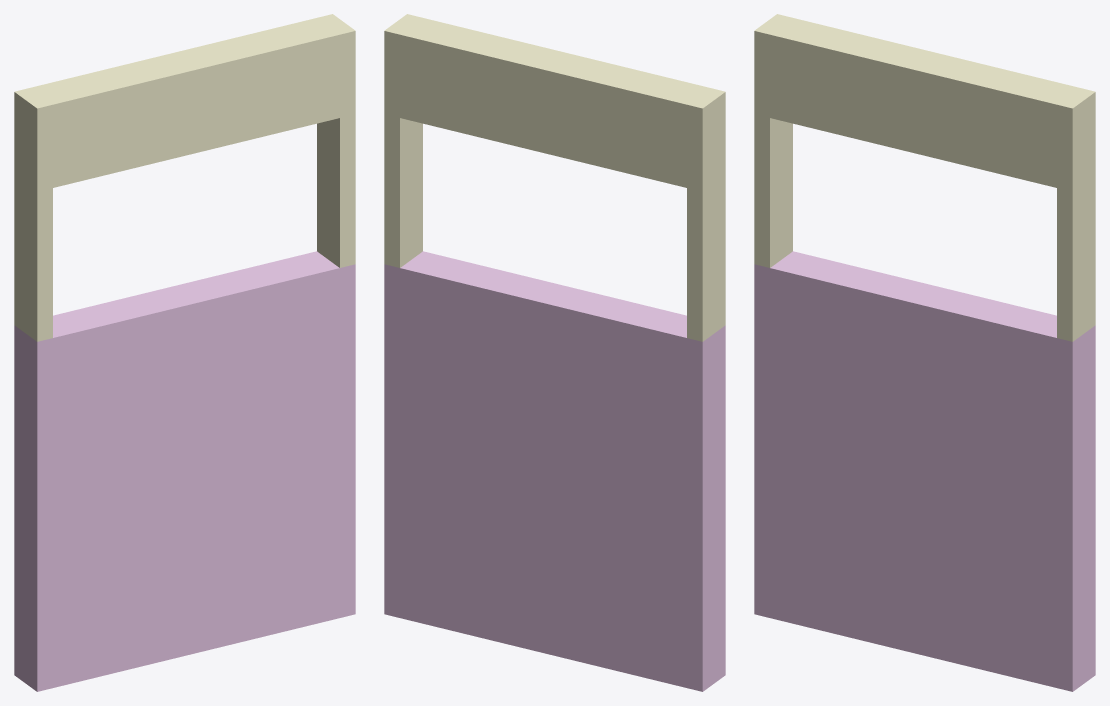
File: Wall_C_Window_Large.glb
3 renders of one model, left to right at view 1: azimuth 30°, elevation 25°; view 2: azimuth 150°, elevation 25°; view 3: azimuth 330°, elevation 25°, orthographic.
Visible parts, largest first — view 1: Wall C Window Large; view 2: Wall C Window Large; view 3: Wall C Window Large.
Part boxes in pixels (bbox=[...]): Wall C Window Large: bbox=[14, 14, 355, 691]; Wall C Window Large: bbox=[384, 14, 725, 691]; Wall C Window Large: bbox=[754, 14, 1095, 691].
Size of the model in its own units: 2 by 3.5 by 0.25.
